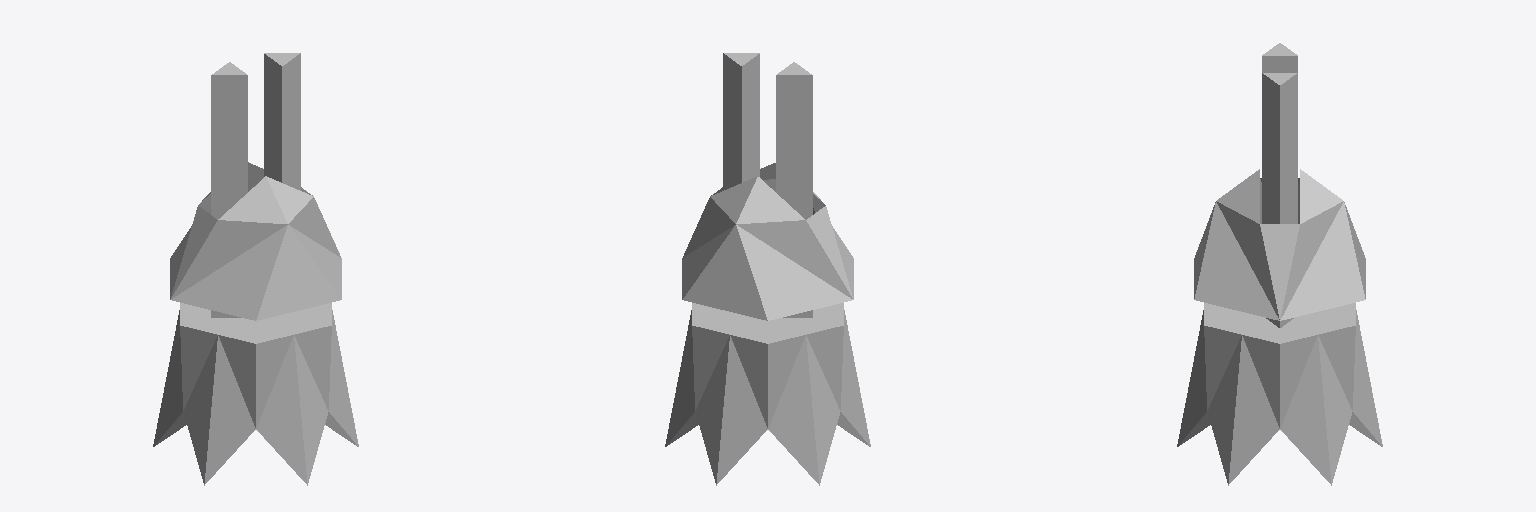
File: BattleshipMissile_Model.obj
3 views of the same model, side by side, from view 1: azimuth 30°, elevation 25°; view 2: azimuth 150°, elevation 25°; view 3: azimuth 270°, elevation 25° (orthographic).
Parts seen in each view (by area): view 1: BattleshipMissile_Mesh BattleshipMissile_Mesh_grp; view 2: BattleshipMissile_Mesh BattleshipMissile_Mesh_grp; view 3: BattleshipMissile_Mesh BattleshipMissile_Mesh_grp.
Part boxes in pixels (x1,y1,x2,y2): BattleshipMissile_Mesh BattleshipMissile_Mesh_grp: (153, 53, 358, 485); BattleshipMissile_Mesh BattleshipMissile_Mesh_grp: (665, 53, 870, 485); BattleshipMissile_Mesh BattleshipMissile_Mesh_grp: (1177, 43, 1382, 485).
Bounding box in the file's own units: 12.2 × 26.09 × 12.72.